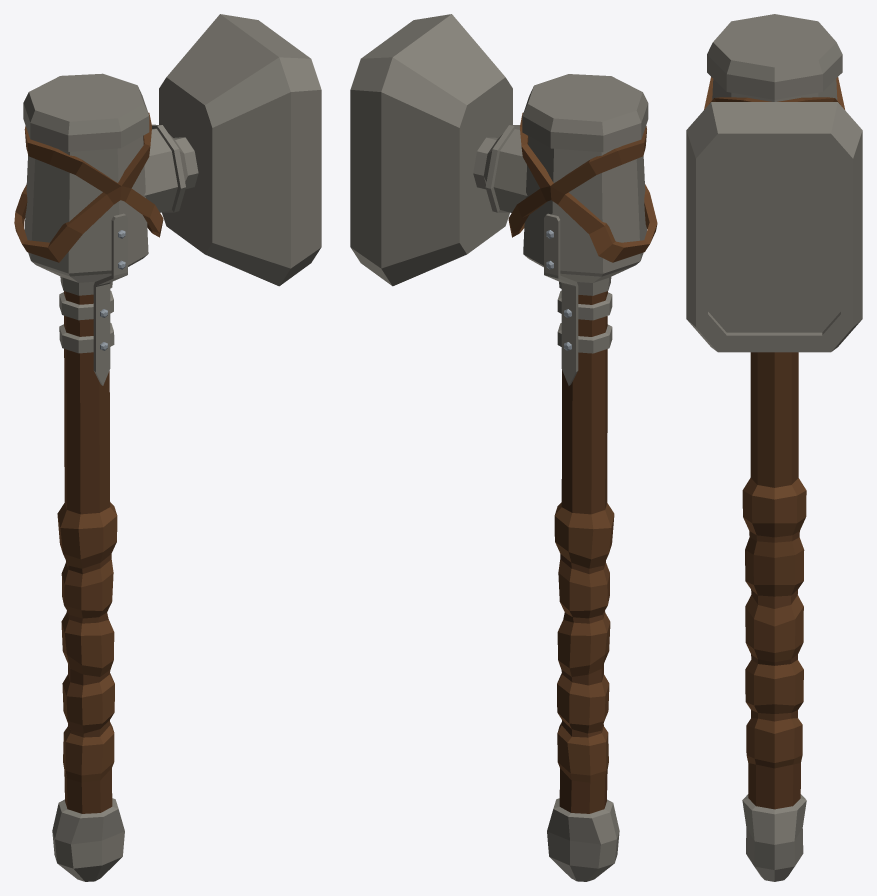
File: cc0-hammer-lod0.glb
The picture shows the model from 3 angles, left to right: view 1: azimuth 30°, elevation 25°; view 2: azimuth 150°, elevation 25°; view 3: azimuth 270°, elevation 25°; orthographic projection. The views are drawn at different scales.
Parts seen in each view (by area): view 1: part_0; view 2: part_0; view 3: part_0.
Part boxes in pixels (<box>): part_0: <box>14,14,321,881</box>; part_0: <box>350,14,657,881</box>; part_0: <box>686,14,862,881</box>.
Bounding box in the file's own units: 1.49 × 4.33 × 0.8057.
